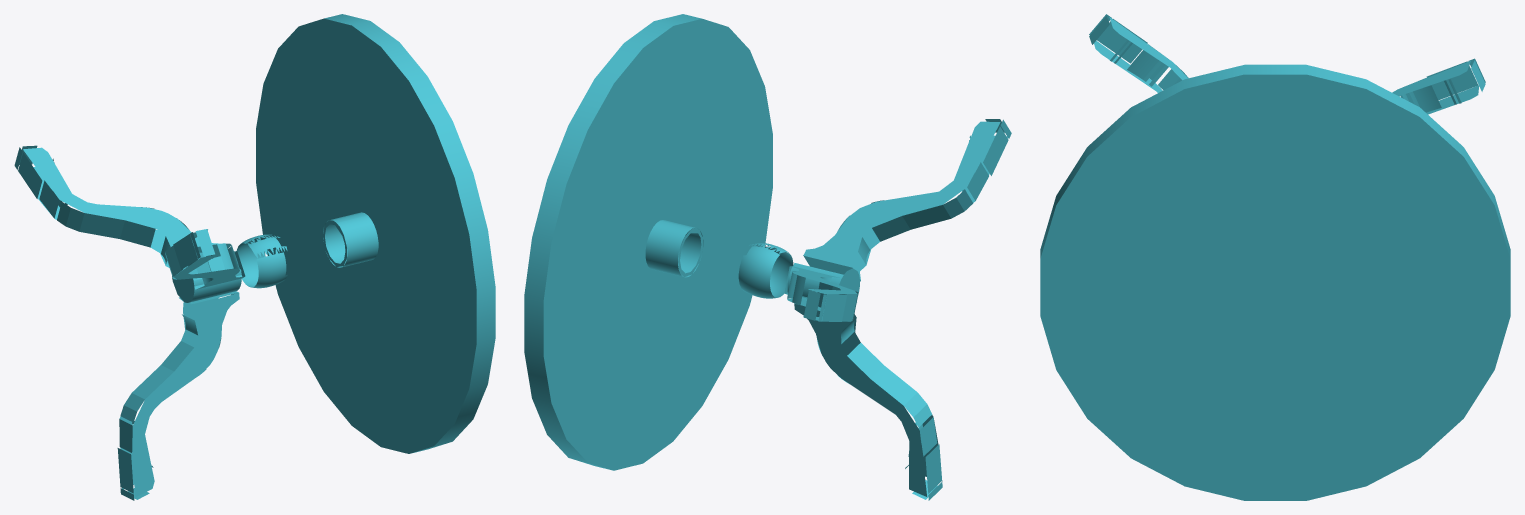
The picture shows the model from 3 angles, left to right: view 1: azimuth 30°, elevation 25°; view 2: azimuth 150°, elevation 25°; view 3: azimuth 270°, elevation 25°; orthographic projection. The views are drawn at different scales.
Parts seen in each view (by area): view 1: Renderer Node; view 2: Renderer Node; view 3: Renderer Node.
Boxes of the visible parts, <box> form: Renderer Node: <box>14,14,495,500</box>; Renderer Node: <box>524,14,1011,500</box>; Renderer Node: <box>1040,14,1510,500</box>.
Bounding box in the file's own units: 0.4488 × 0.6319 × 0.6319.
1 material, 1 textured.
